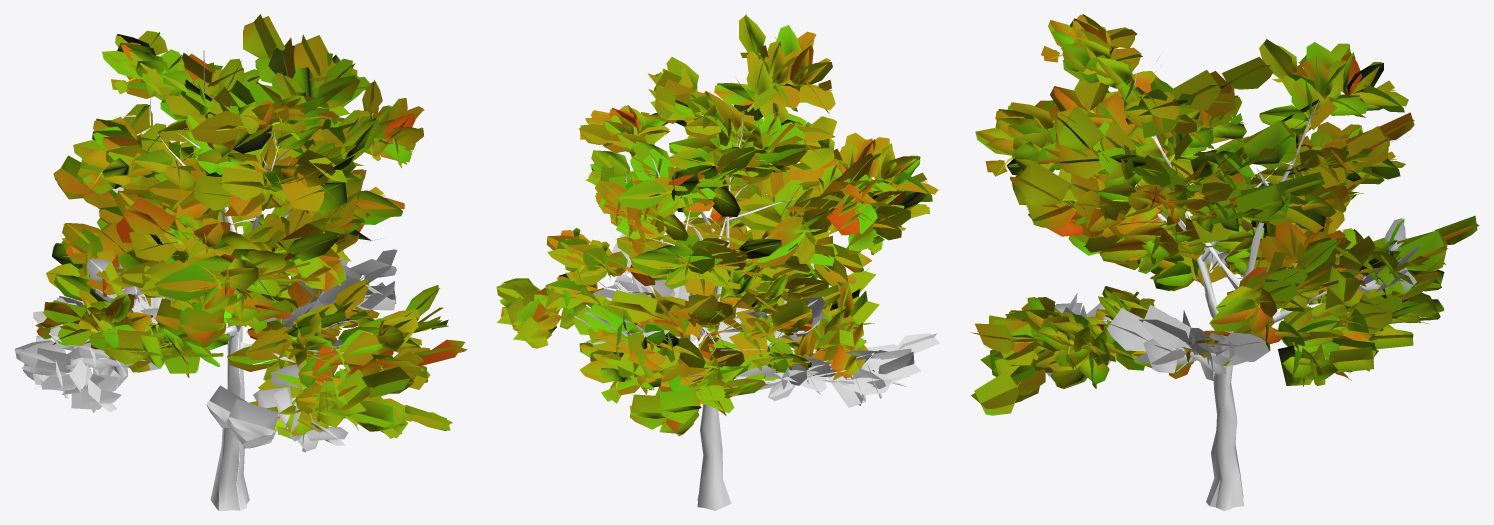
Rendered from Tree big 2 test.glb.
The picture shows the model from 3 angles, left to right: view 1: azimuth 30°, elevation 25°; view 2: azimuth 150°, elevation 25°; view 3: azimuth 270°, elevation 25°; orthographic projection. The views are drawn at different scales.
Visible parts, largest first — view 1: Tree big 2; view 2: Tree big 2; view 3: Tree big 2.
Part boxes in pixels (x1,y1,x2,y2): Tree big 2: [14, 14, 467, 510]; Tree big 2: [496, 14, 939, 510]; Tree big 2: [970, 14, 1479, 510].
Size of what is drawn, in the model's own units: 62.65 by 69.25 by 66.87.
